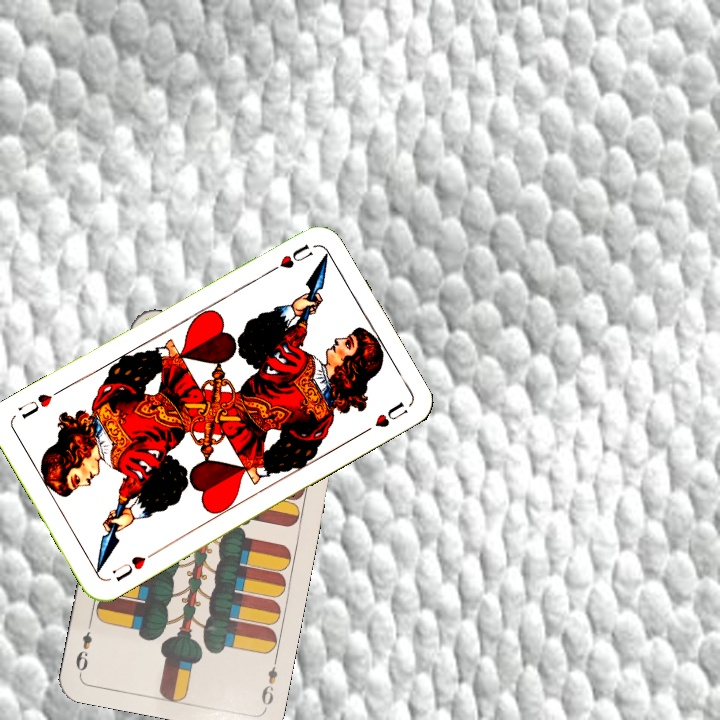E9: (257, 653, 281, 712)
HU: (263, 240, 316, 277), (108, 547, 159, 584)
